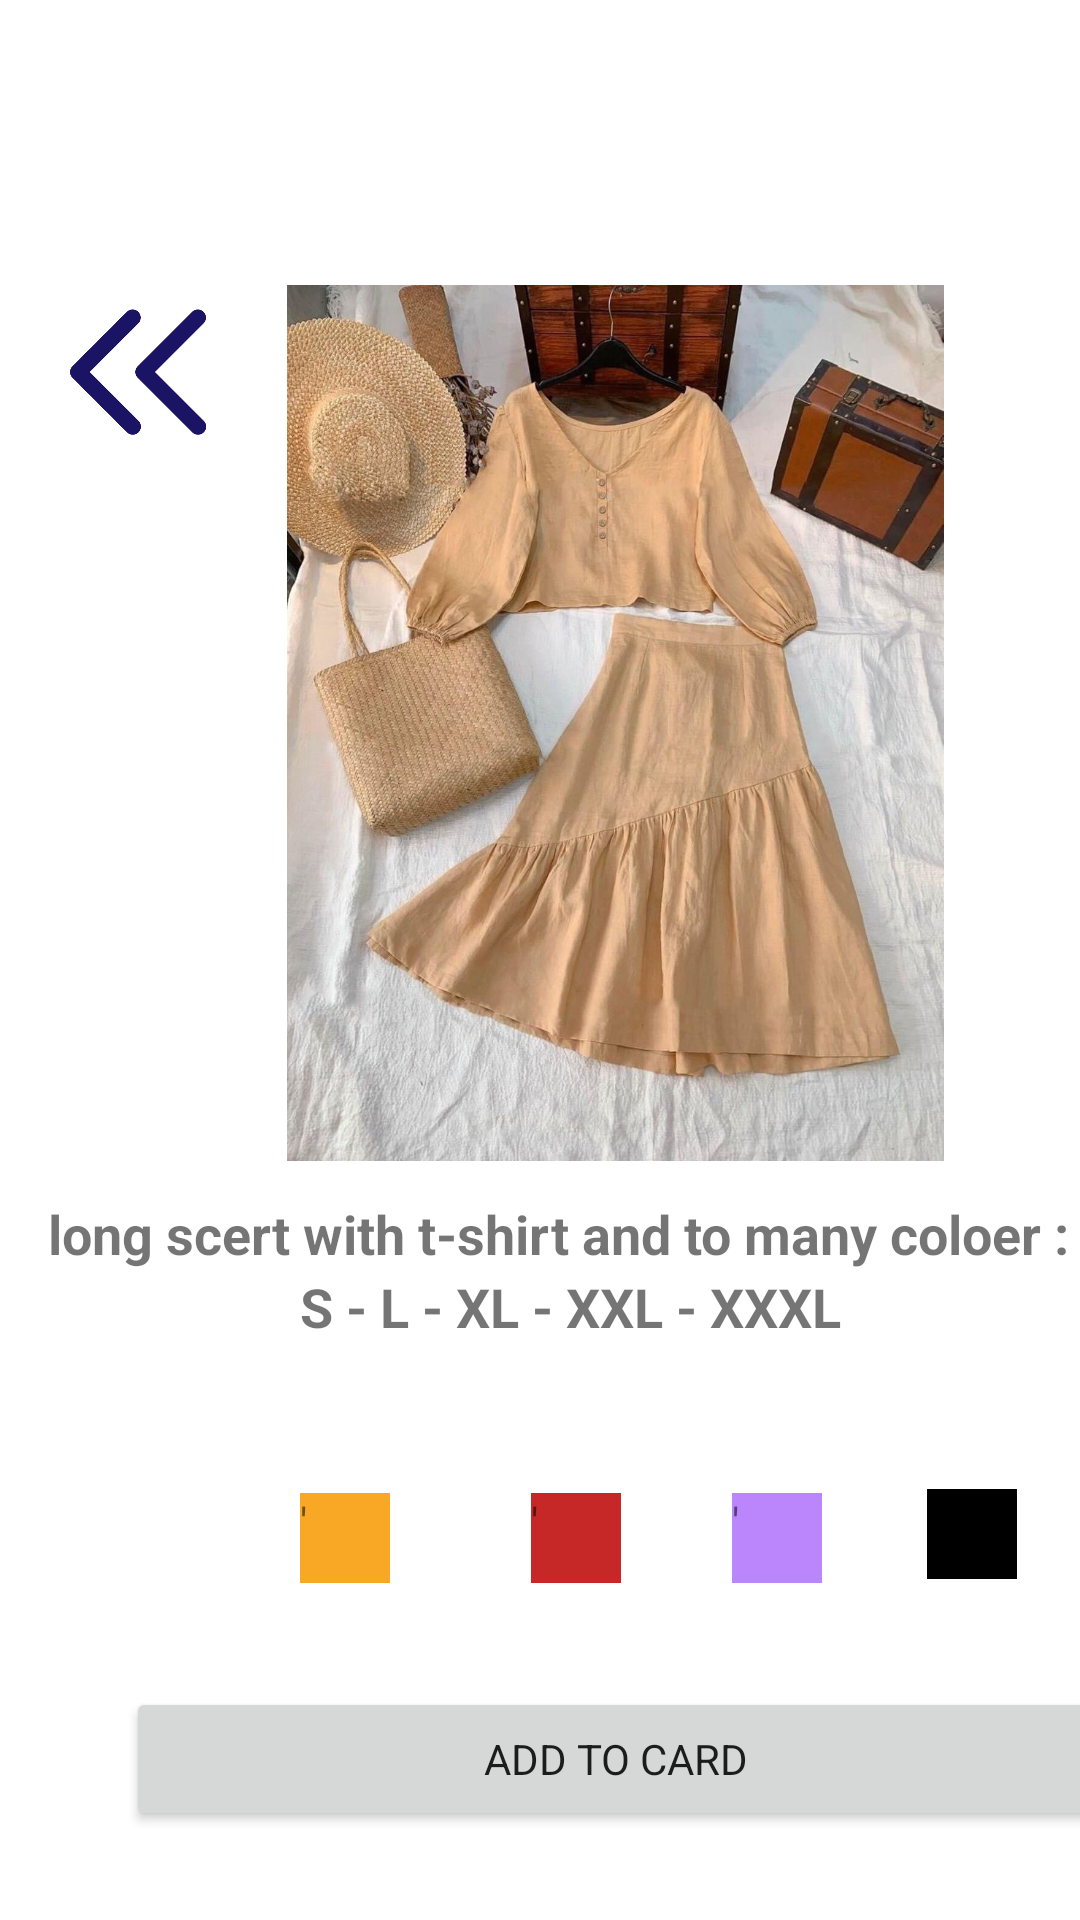

Screen size 1080 x 1920. Icon name, then its center in pixels as [x,y]:
back: [138,372]
